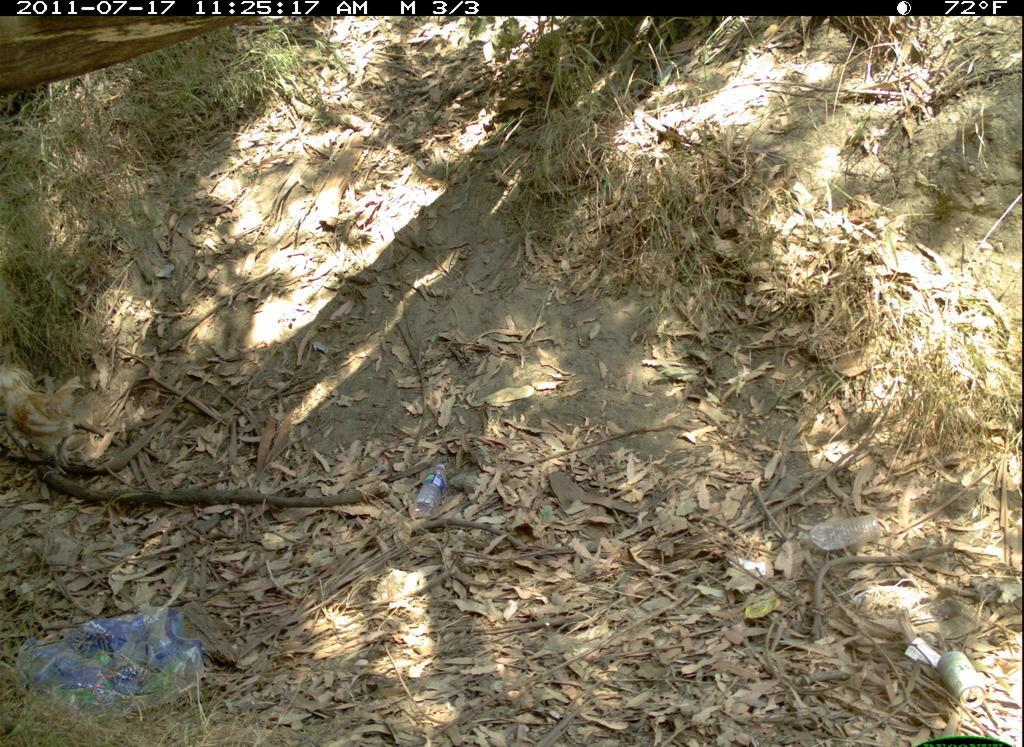bird: (1, 363, 95, 481)
